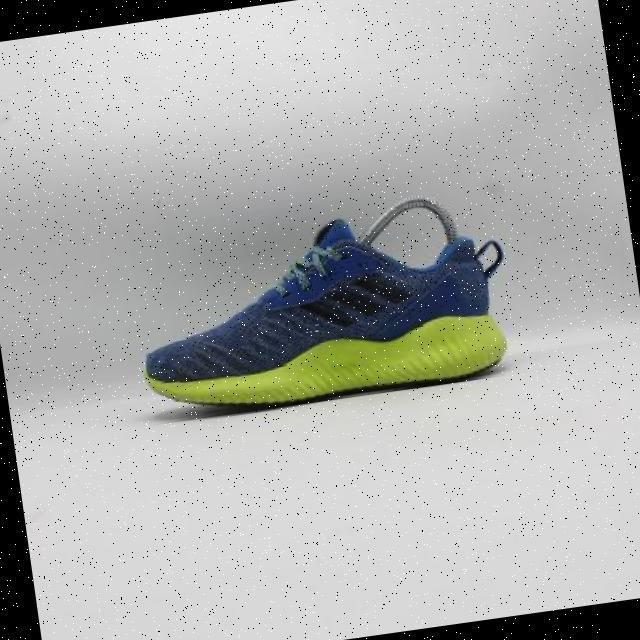Adidas: (298, 260, 422, 338)
